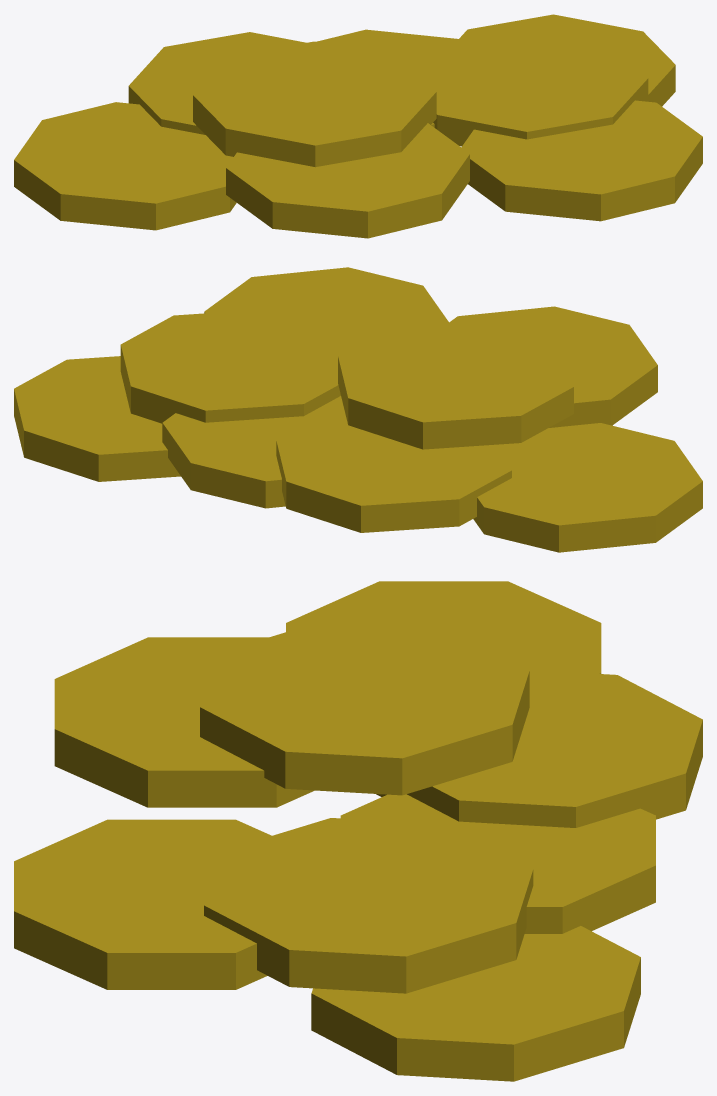
The model's file is Coin10.glb.
3 views of the same model, one above another, from view 1: azimuth 30°, elevation 25°; view 2: azimuth 150°, elevation 25°; view 3: azimuth 270°, elevation 25° (orthographic). The views are drawn at different scales.
Parts seen in each view (by area): view 1: Cube.005; view 2: Cube.005; view 3: Cube.005.
Boxes of the visible parts, left/top/right/bottom form: Cube.005: left=14, top=14, right=702, bottom=238; Cube.005: left=14, top=267, right=702, bottom=552; Cube.005: left=14, top=581, right=702, bottom=1081.
Bounding box in the file's own units: 0.3247 × 0.0479 × 0.222.
